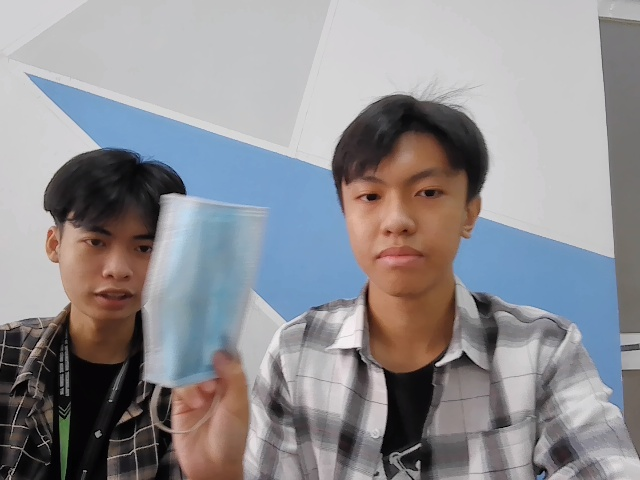human: (333, 91, 492, 291), (47, 145, 183, 318)
mask: (145, 195, 270, 387)
